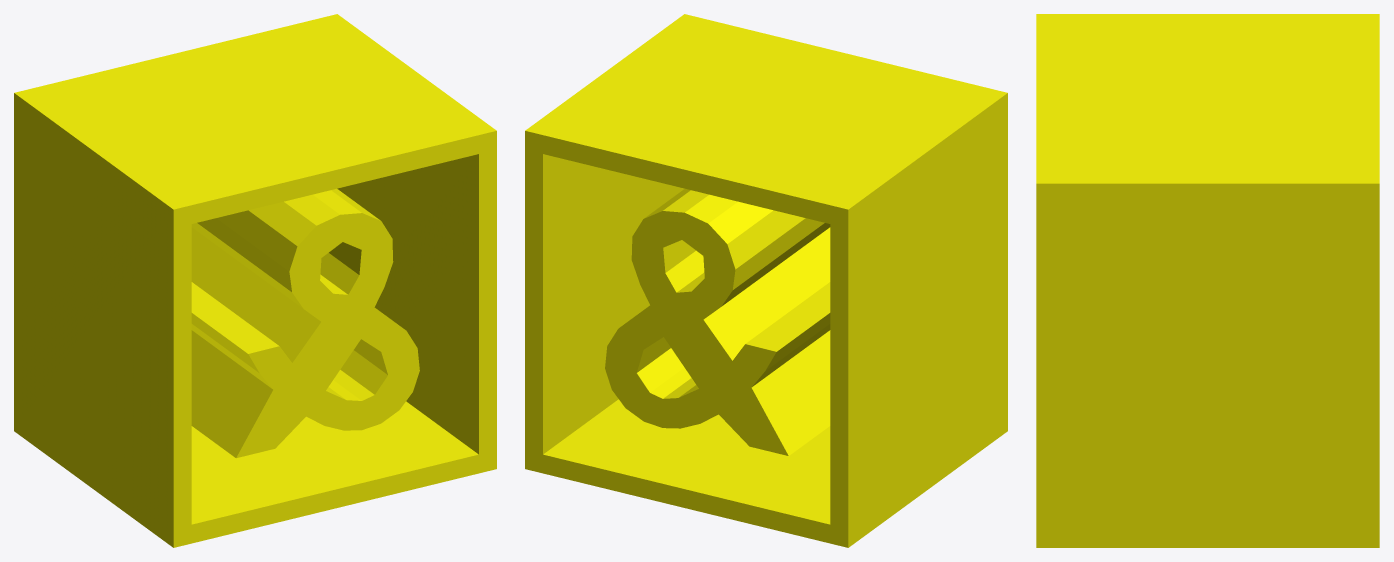
The model's file is AmpHighlight.fbx.
3 views of the same model, side by side, from view 1: azimuth 30°, elevation 25°; view 2: azimuth 150°, elevation 25°; view 3: azimuth 270°, elevation 25° (orthographic). The views are drawn at different scales.
Visible parts, largest first — view 1: Amp_Highlight; view 2: Amp_Highlight; view 3: Amp_Highlight.
Boxes of the visible parts, x1=… form: Amp_Highlight: x1=14, y1=14, x2=496, y2=547; Amp_Highlight: x1=525, y1=14, x2=1007, y2=547; Amp_Highlight: x1=1036, y1=14, x2=1379, y2=547.
Bounding box in the file's own units: 224 × 224 × 191.
